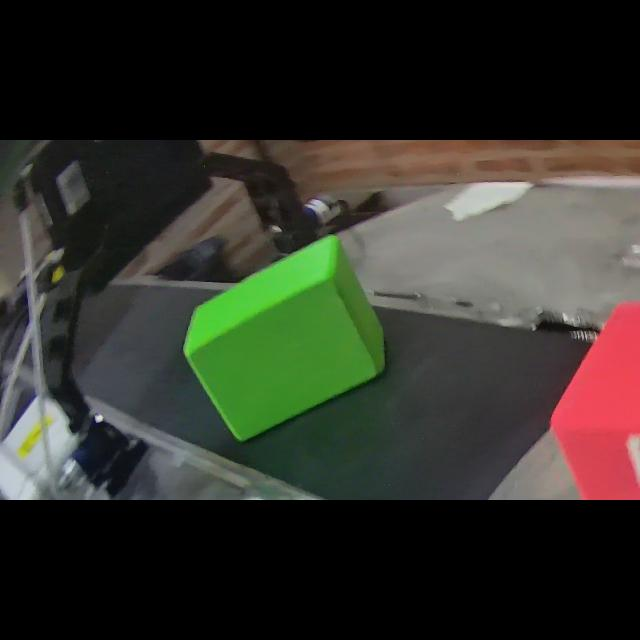greenBox: (182, 234, 396, 452)
redBox: (544, 294, 640, 500)
